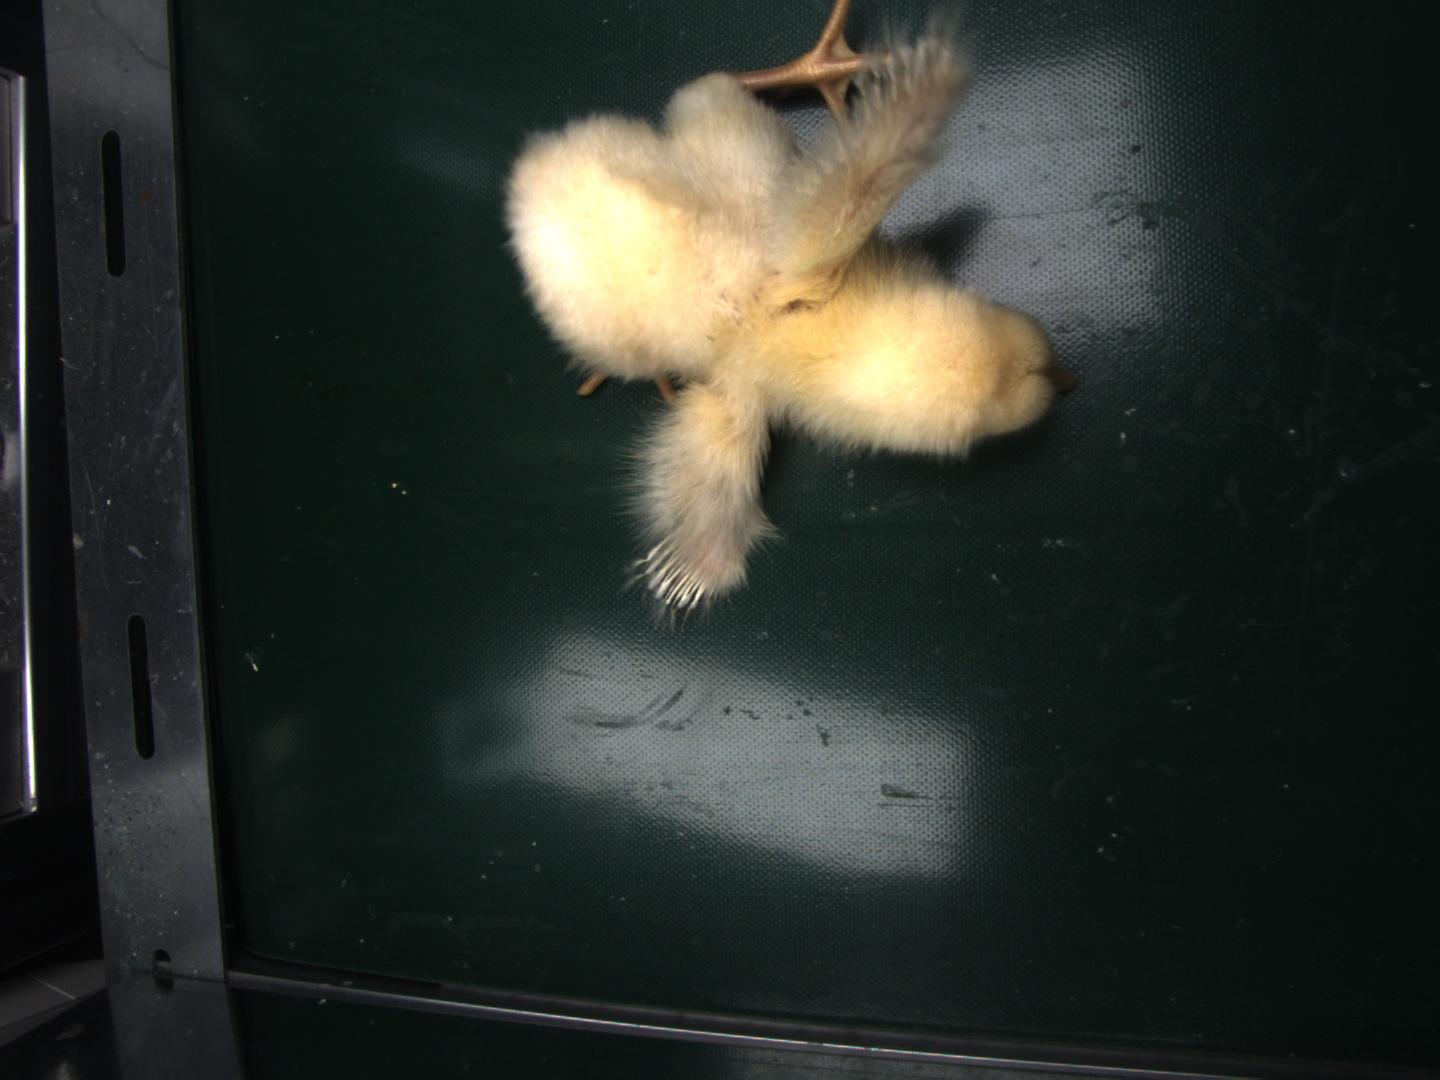male: (644, 534, 712, 610)
